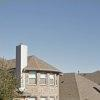Chimney: (12, 34, 42, 91)
